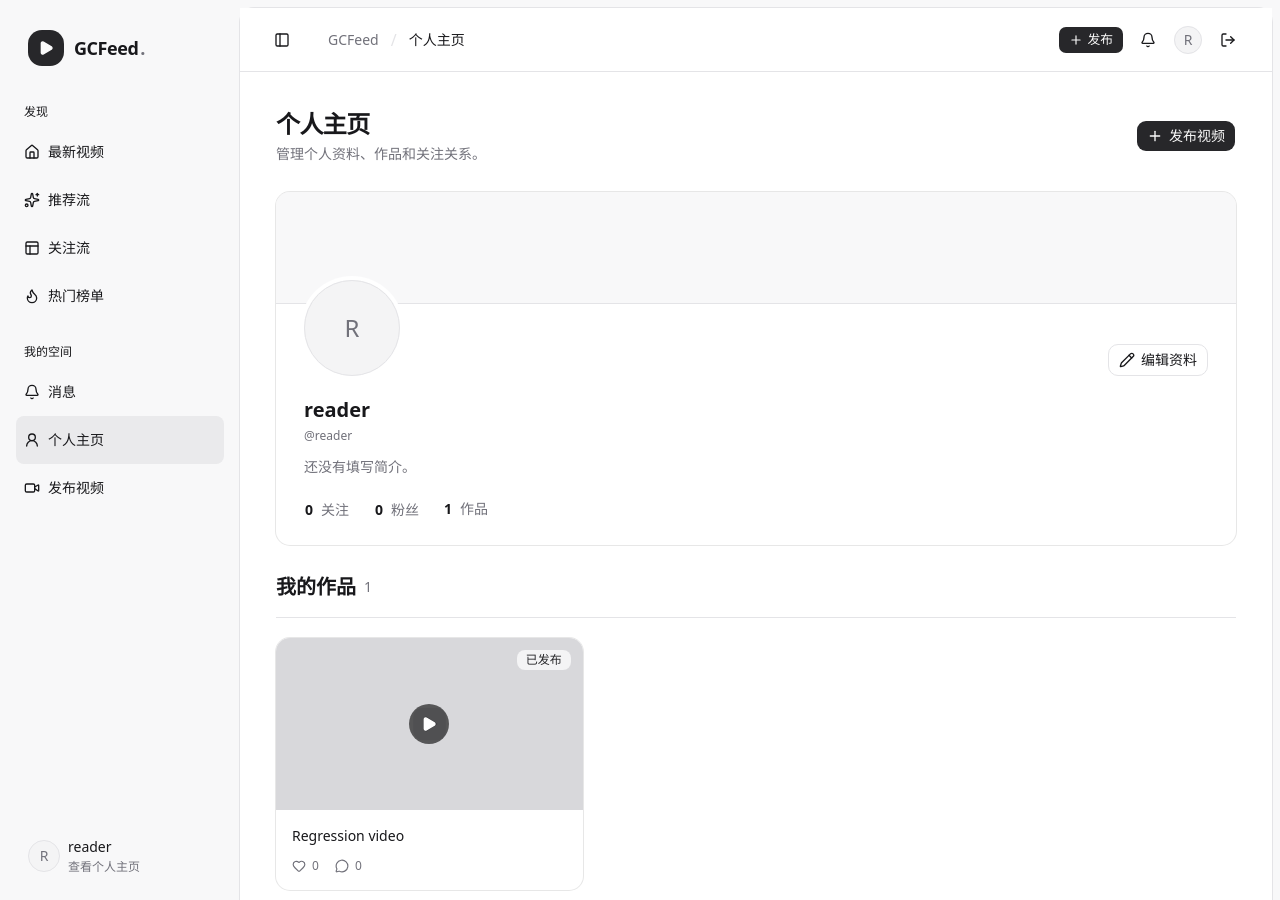
Scenario: profile edit dialog preserves form submit and upload page remains accessible
Later steps or results of the test are not shown.
Click the button "编辑资料".
click(1158, 360)  # box [1108,344,1208,376]
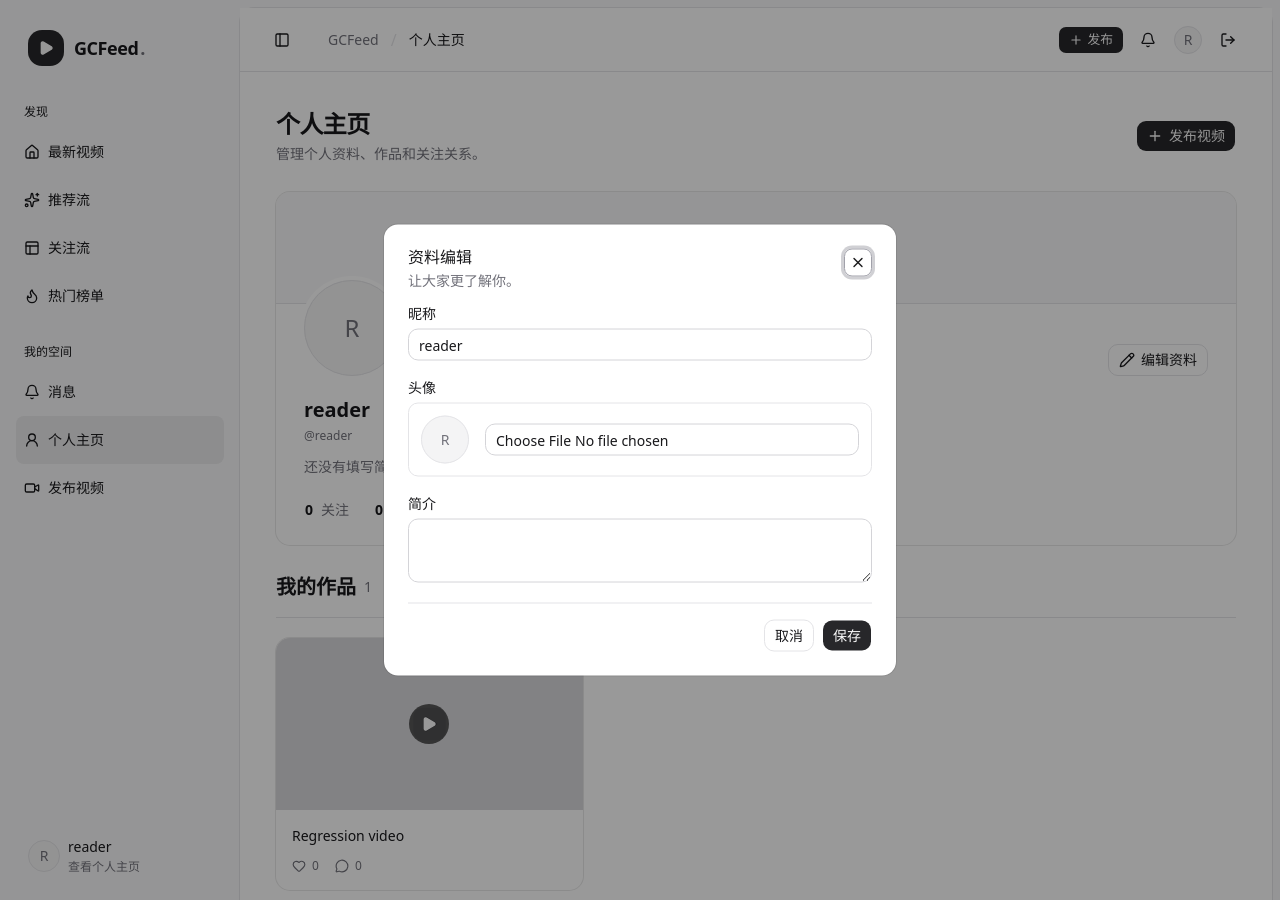
Result: the form is shown at [408,306,872,652]
Click the button "保存".
click(847, 636)  # box [822,620,872,652]
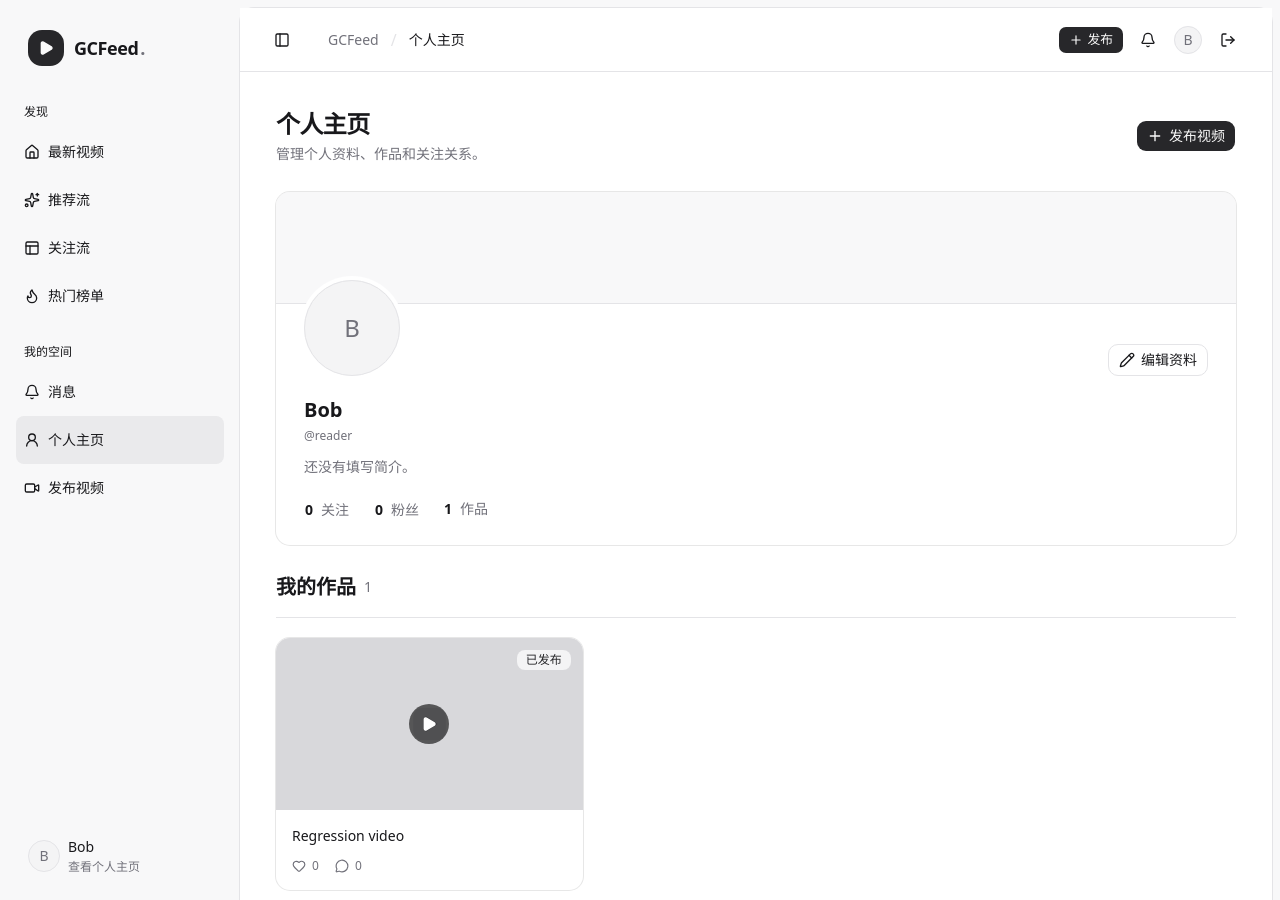
Result: the dialog is gone
